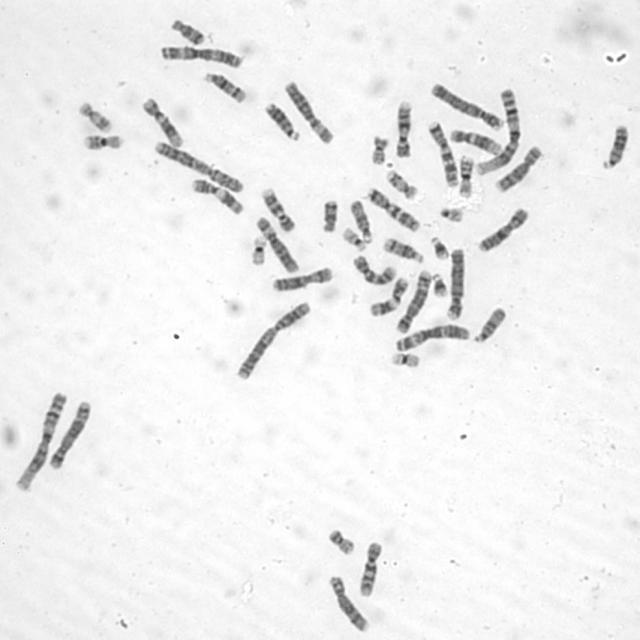A1: (12, 388, 70, 493), (472, 85, 522, 177)
A2: (232, 298, 313, 382), (150, 137, 246, 194)
A3: (392, 321, 472, 354), (156, 42, 246, 70)
B4: (428, 80, 505, 132), (443, 244, 467, 322)
B5: (46, 396, 92, 469), (394, 266, 433, 334)
C10: (349, 251, 399, 287), (356, 538, 384, 599)
C11: (189, 176, 246, 217), (366, 273, 411, 319)
C12: (138, 94, 185, 150), (447, 126, 504, 156)
C6: (282, 78, 336, 145), (253, 213, 300, 274)
C7: (364, 184, 422, 233), (424, 118, 460, 188)
C8: (492, 143, 544, 194), (326, 572, 370, 632)
C9: (259, 184, 297, 233), (393, 98, 414, 159)
D13: (262, 99, 301, 143), (598, 120, 630, 170)
D14: (200, 69, 248, 105), (380, 234, 425, 265)
D15: (470, 303, 508, 345), (347, 197, 373, 246)
E16: (79, 131, 125, 152), (456, 152, 475, 198)
E17: (76, 98, 113, 134), (383, 166, 420, 201)
E18: (169, 16, 206, 46), (319, 196, 339, 234)
F19: (248, 232, 269, 267), (388, 348, 421, 369)
F20: (324, 525, 357, 556), (368, 132, 391, 166)
G21: (426, 233, 451, 261), (430, 270, 450, 298)
G22: (340, 224, 368, 253), (436, 204, 466, 223)
X: (473, 204, 531, 254), (268, 264, 336, 293)
